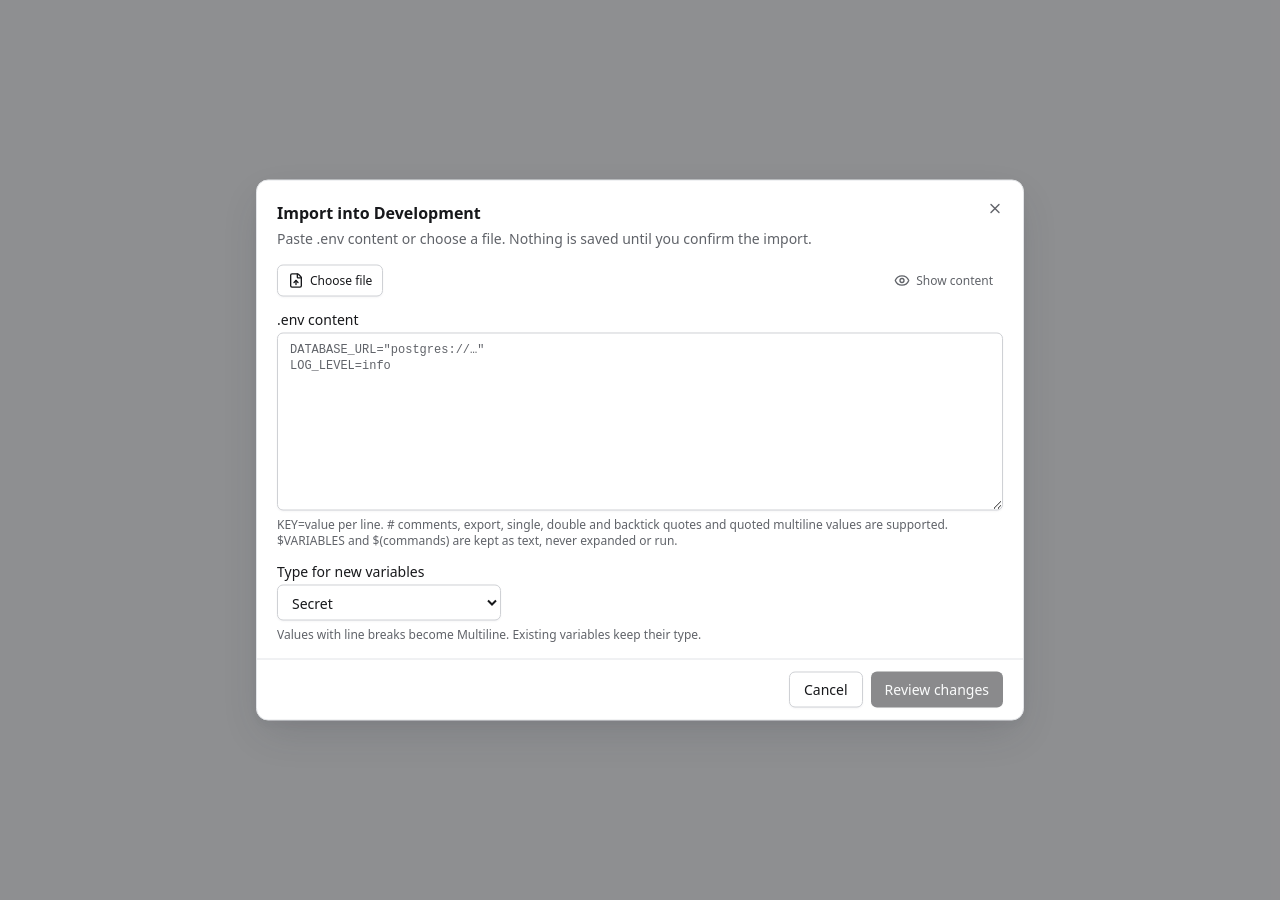
Scenario: ImportWizard › shows the keys the server rejected and keeps the review open
Click the text box labelled ".env content" at (640, 422), box [277,332,1003,510]
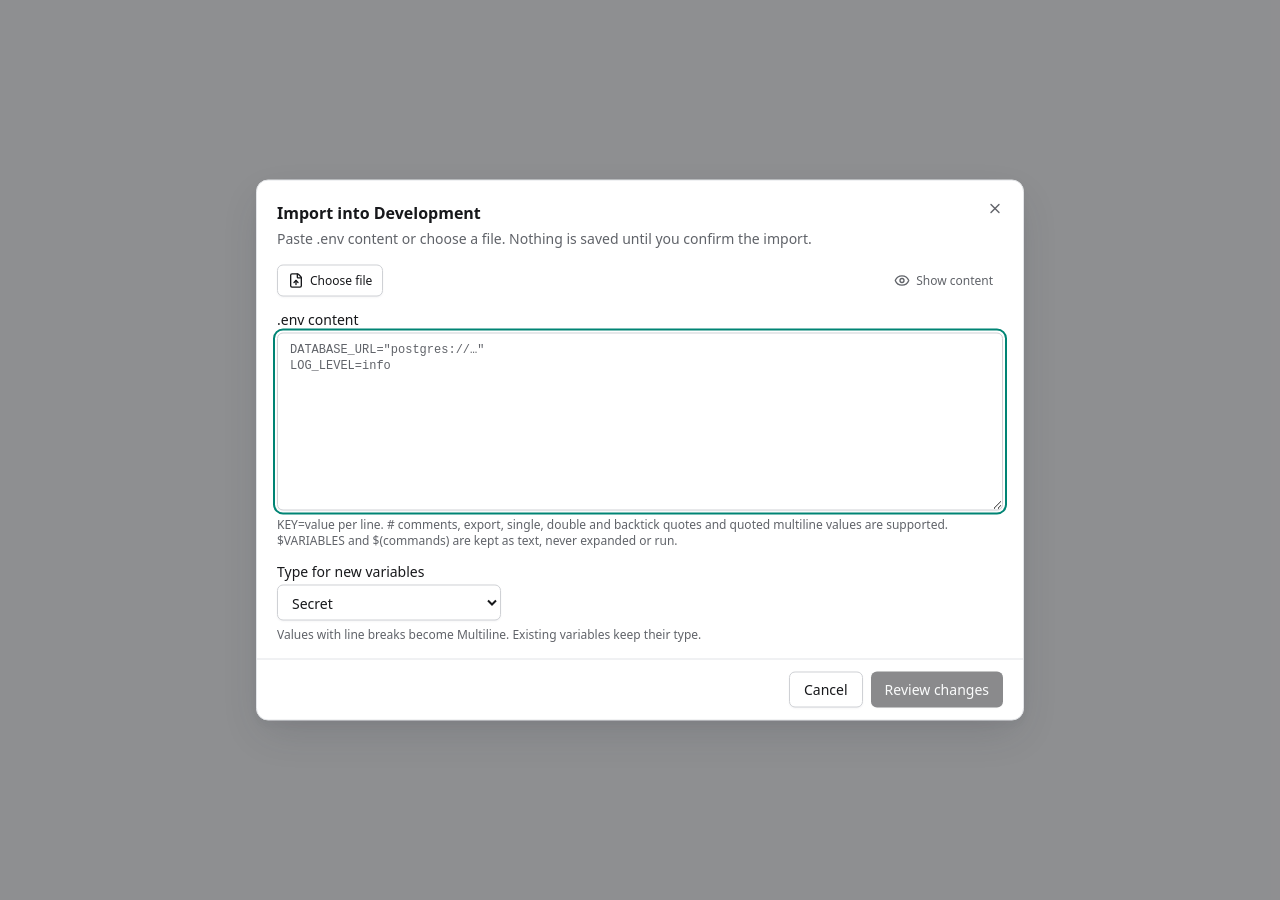
Type keys "NEW_KEY=x"
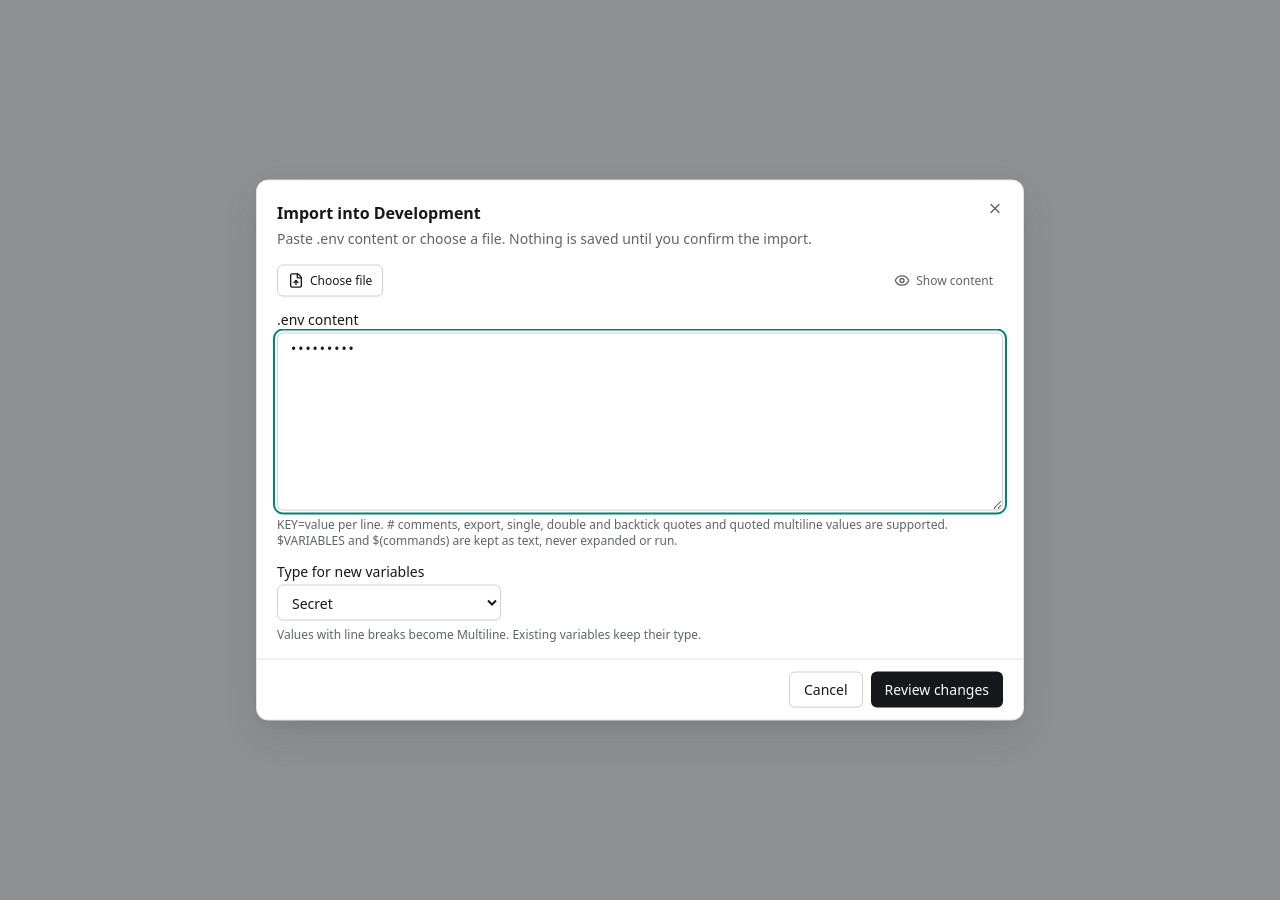
Click the button "Review changes" at (937, 690), box [871,672,1003,708]
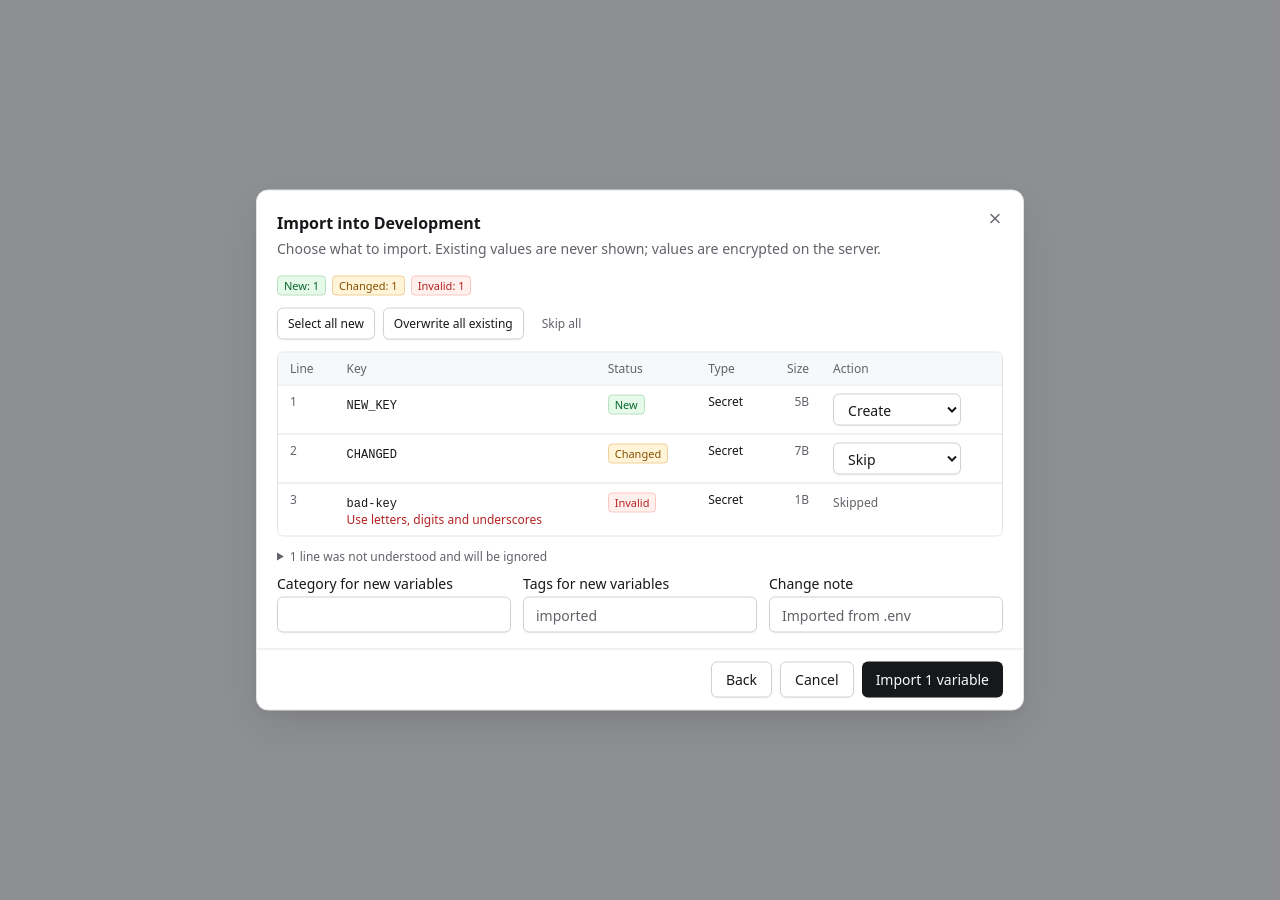
Click the button "Import 1 variable" at (932, 680), box [862,662,1003,698]
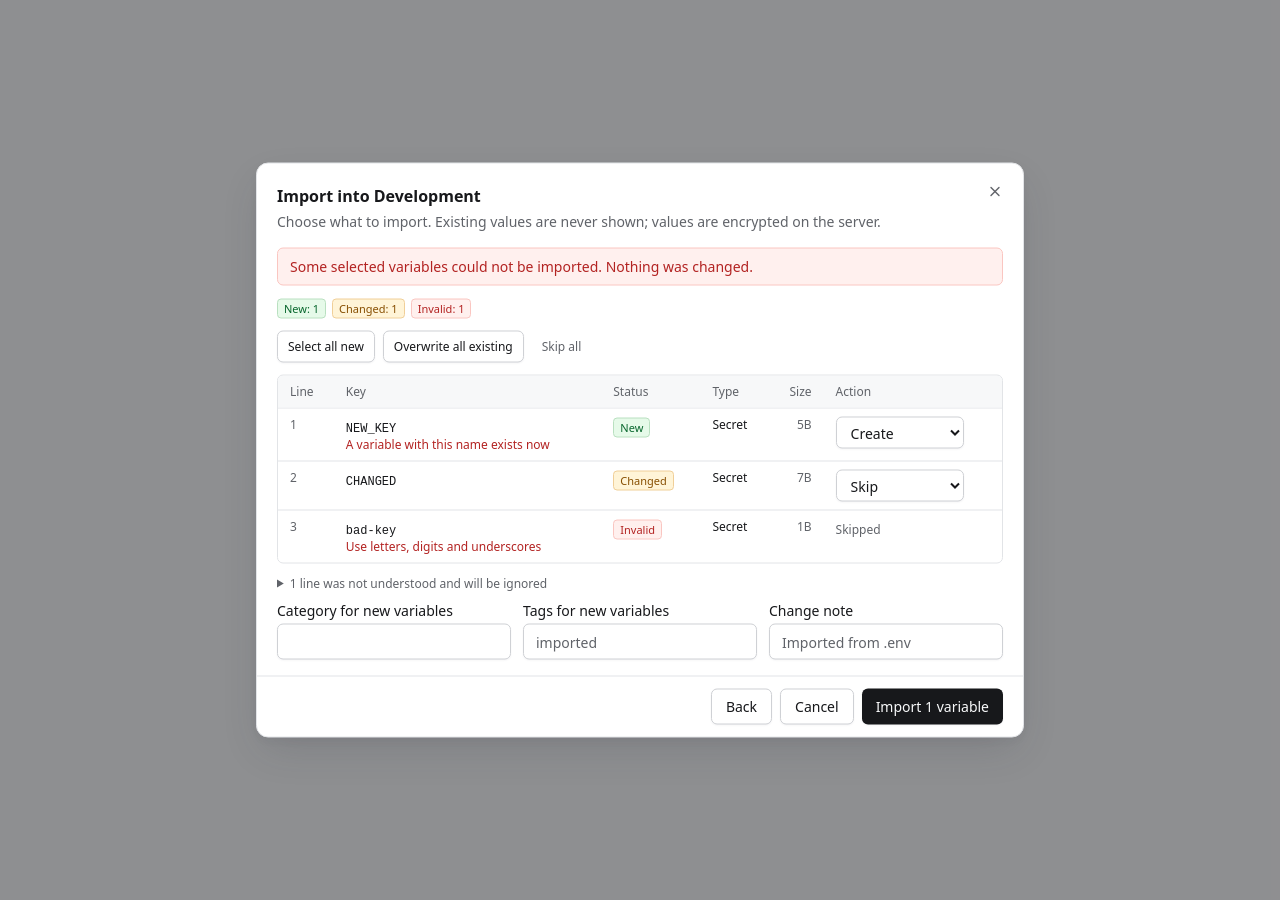
Result: the text "A variable with this name exists now" is shown at [346,436,550,452]
Result: the message shows "Nothing was changed" at [290,256,753,276]
